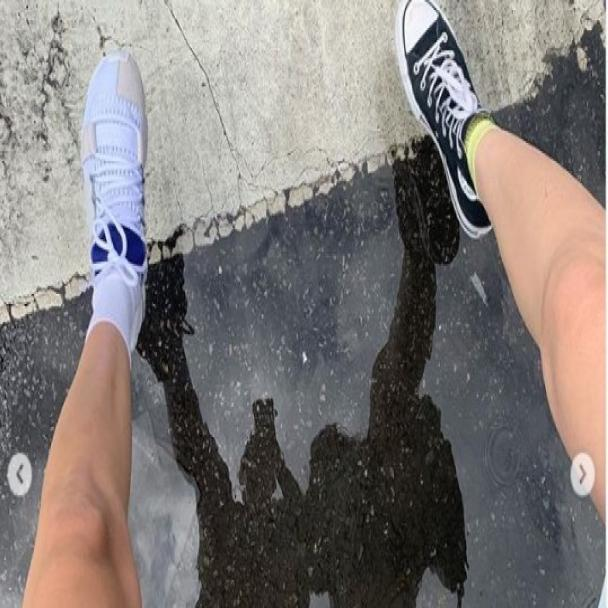Sepatu: (391, 0, 507, 250), (76, 38, 157, 313)
